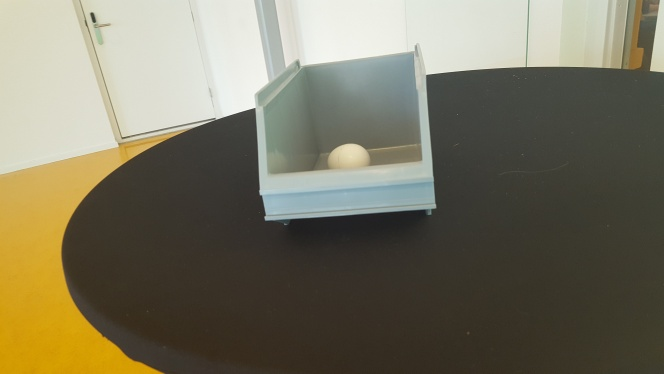egg: (327, 143, 371, 169)
tray_front: (253, 70, 438, 222)
